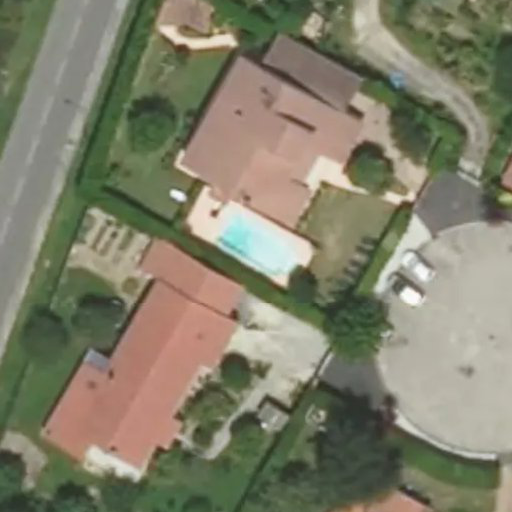pool: (213, 240, 305, 250)
